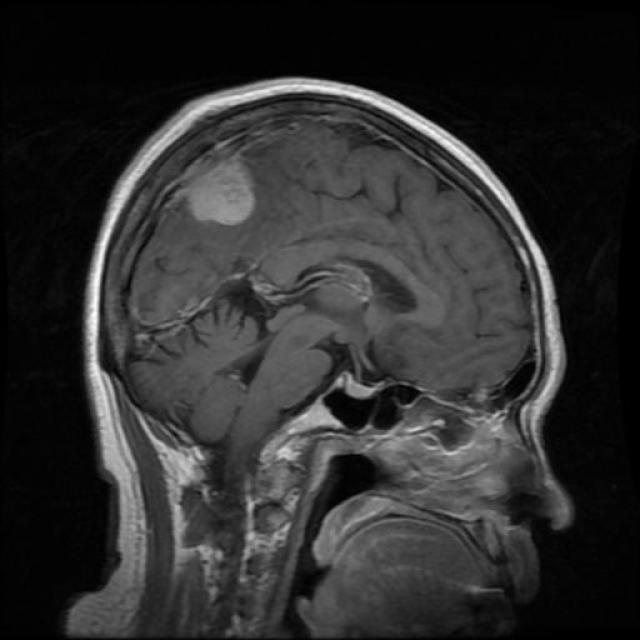meningioma: (182, 158, 254, 228)
